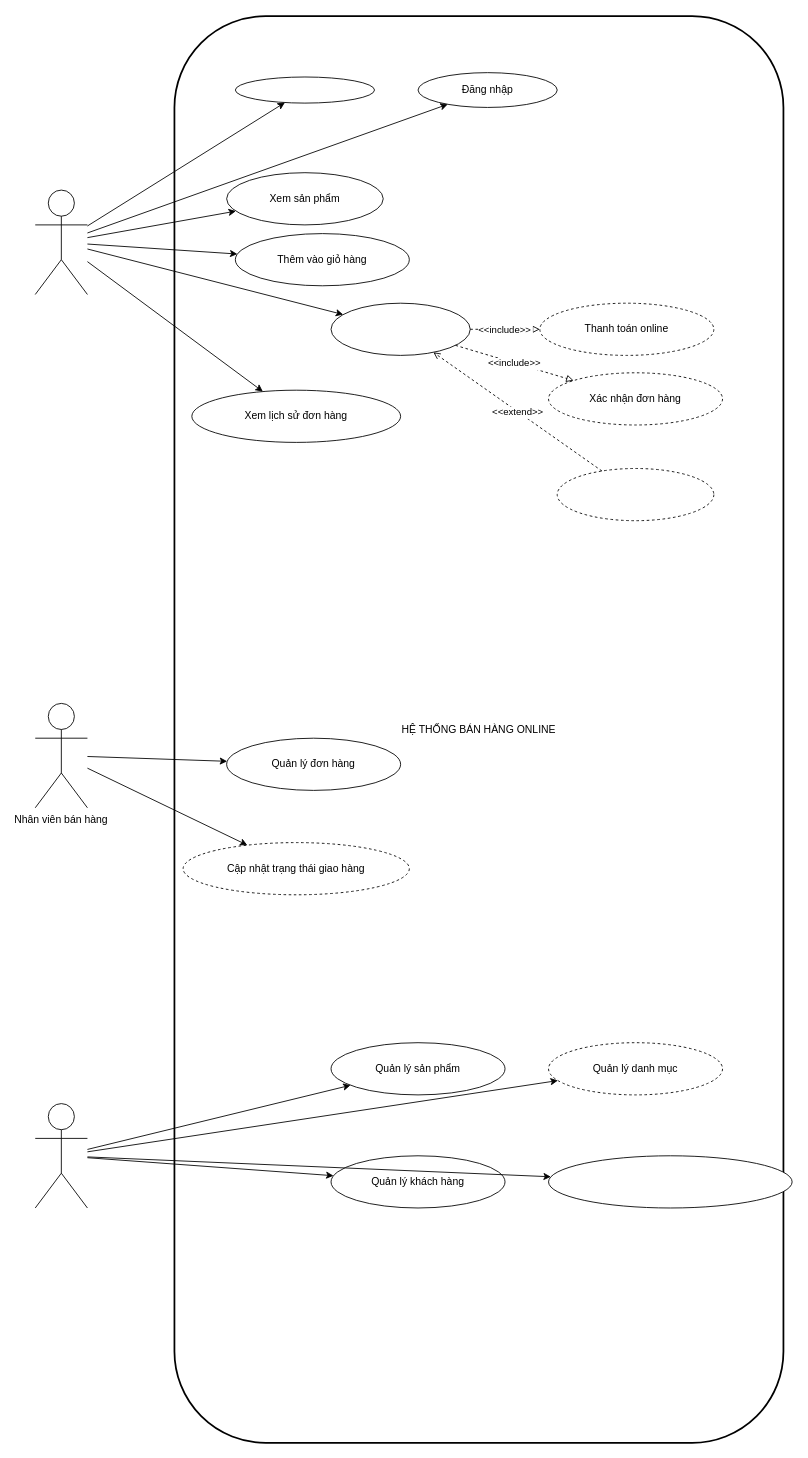
The diagram is 808 pixels wide and 1458 high, and some of its shapes have lost their labels. The shapes that lost their labels are listed below. From the top down, each one's centre as x and y in pixels, then its label:
At [304,89]: "Đăng ký".
At [60,241]: "Khách hàng".
At [400,328]: "Thanh toán".
At [635,494]: "Áp mã giảm giá".
At [60,1155]: "Quản trị viên".
At [670,1181]: "Quản lý người dùng & phân quyền".
